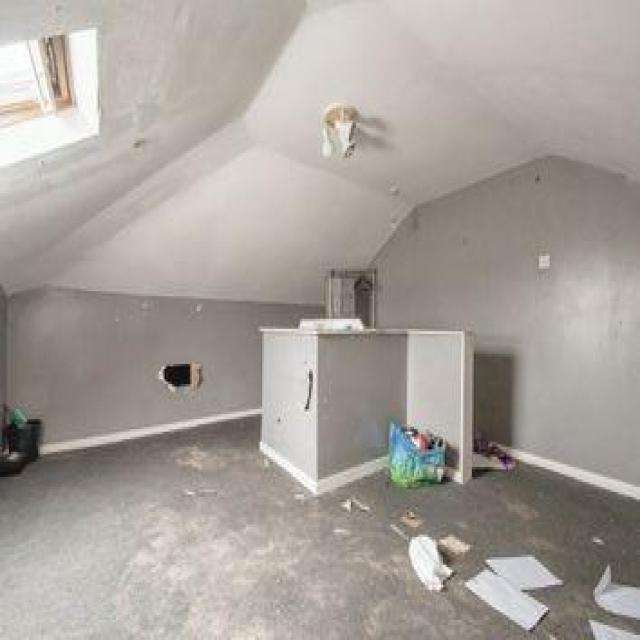Wall: (0, 418, 640, 639), (0, 1, 414, 303), (378, 160, 640, 485), (376, 182, 640, 483), (245, 4, 640, 204), (488, 158, 640, 483), (7, 288, 323, 443)
